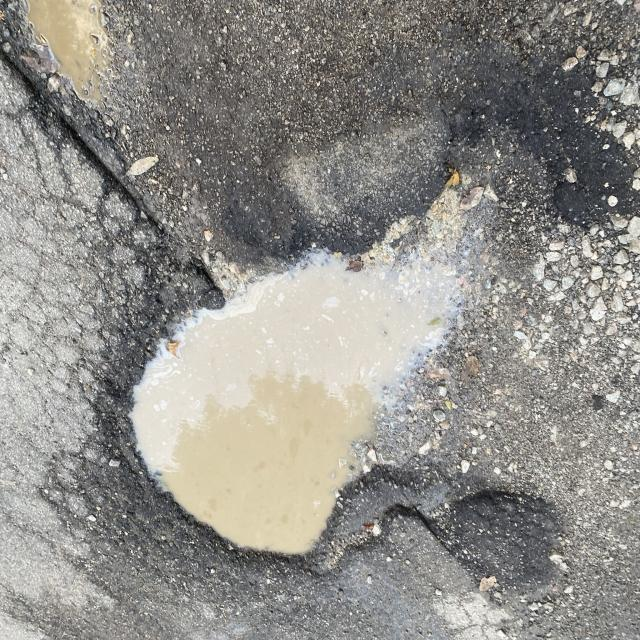pothole: (56, 232, 436, 634), (2, 30, 227, 266)
